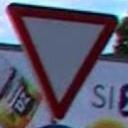preferencia: (5, 2, 121, 122)
